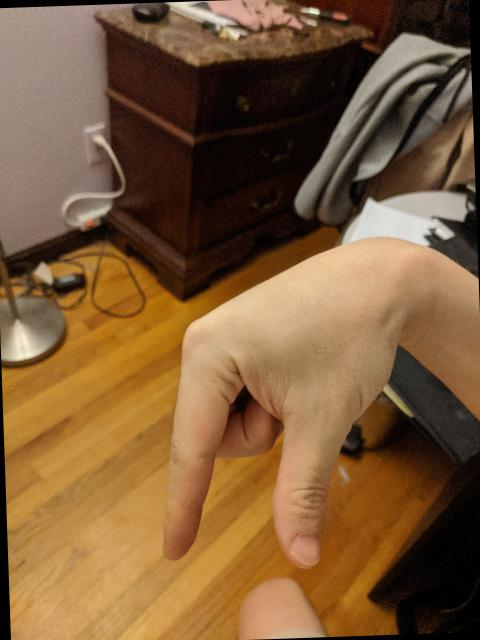Q: (145, 227, 411, 578)
